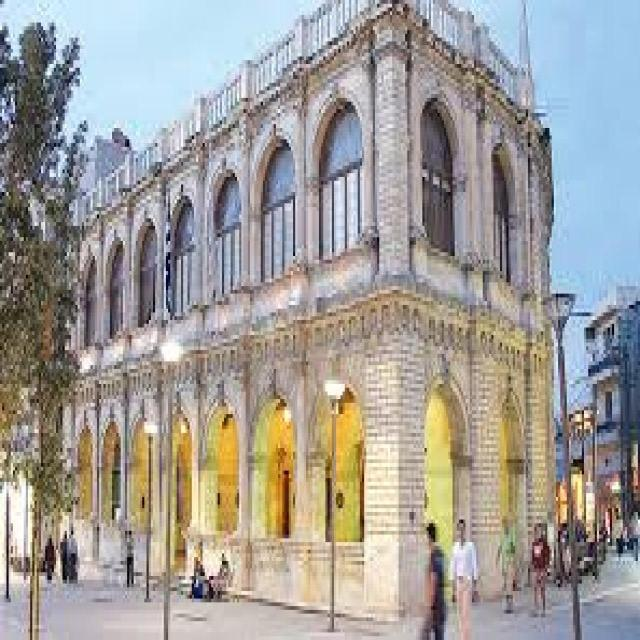Loggia: (59, 1, 571, 615)
